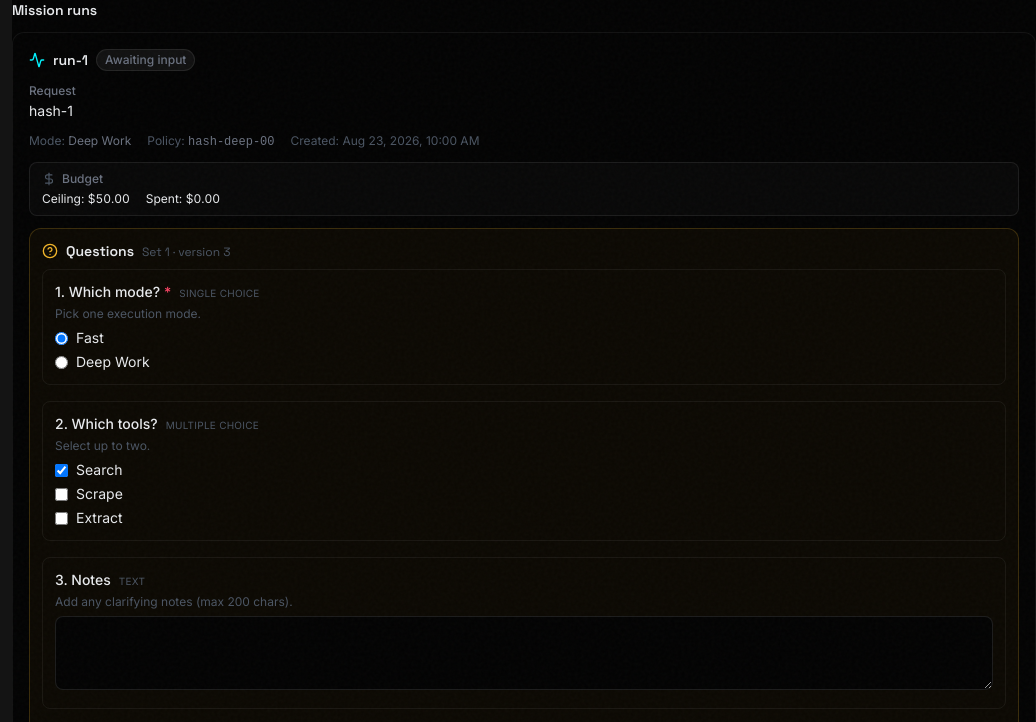
Scenario: VAL-CROSS-013: stale question action is rejected and prompts refresh › shows a refresh message for an invalidated question set and preserves typed input
// Fill answers.
Click the radio button labelled "Deep Work" at (62,362), box [55,356,68,368]
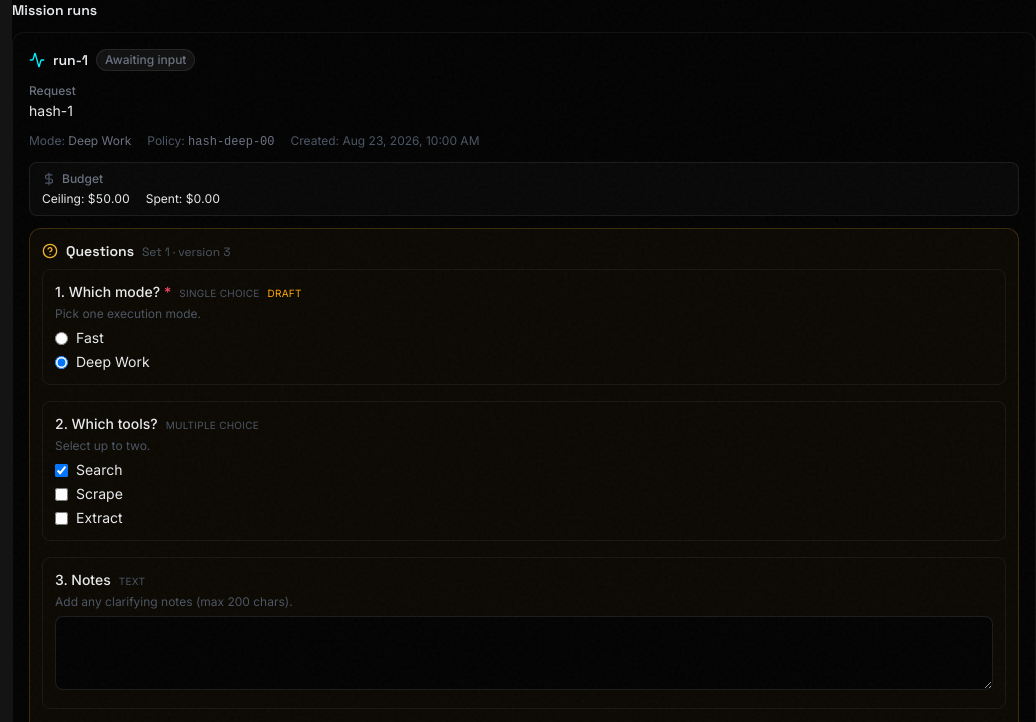
Type "Inv draft" into the text box named "Notes" at (524,653), box [55,616,993,690]
(page scrolled)
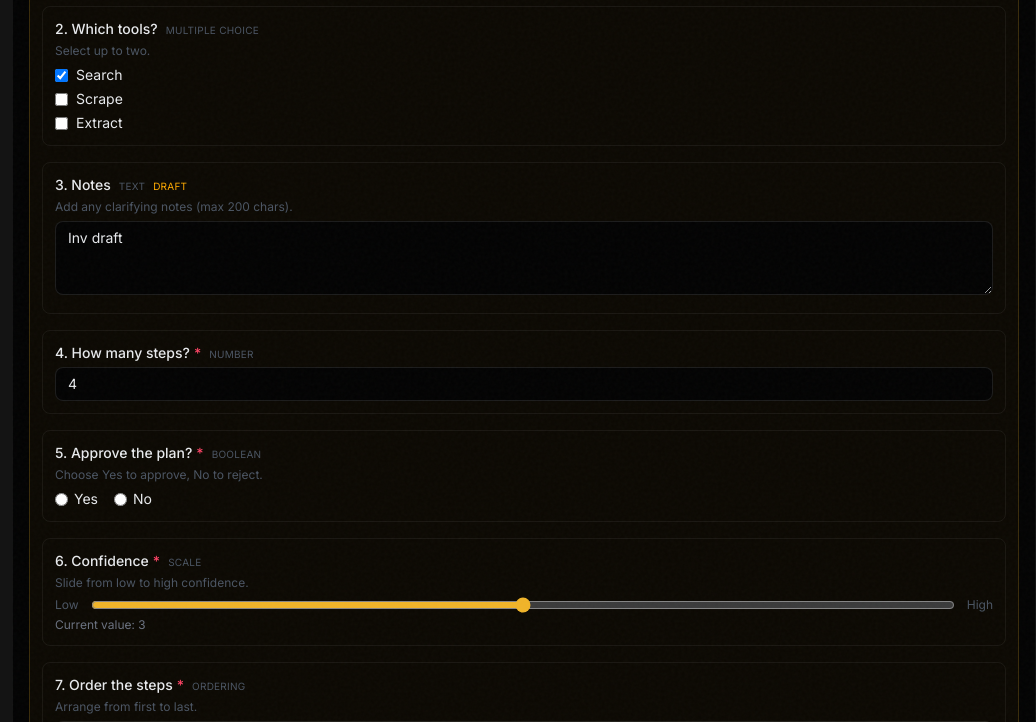
Replace the text in the number field named "How many steps?" with "6" at (524,384), box [55,367,993,401]
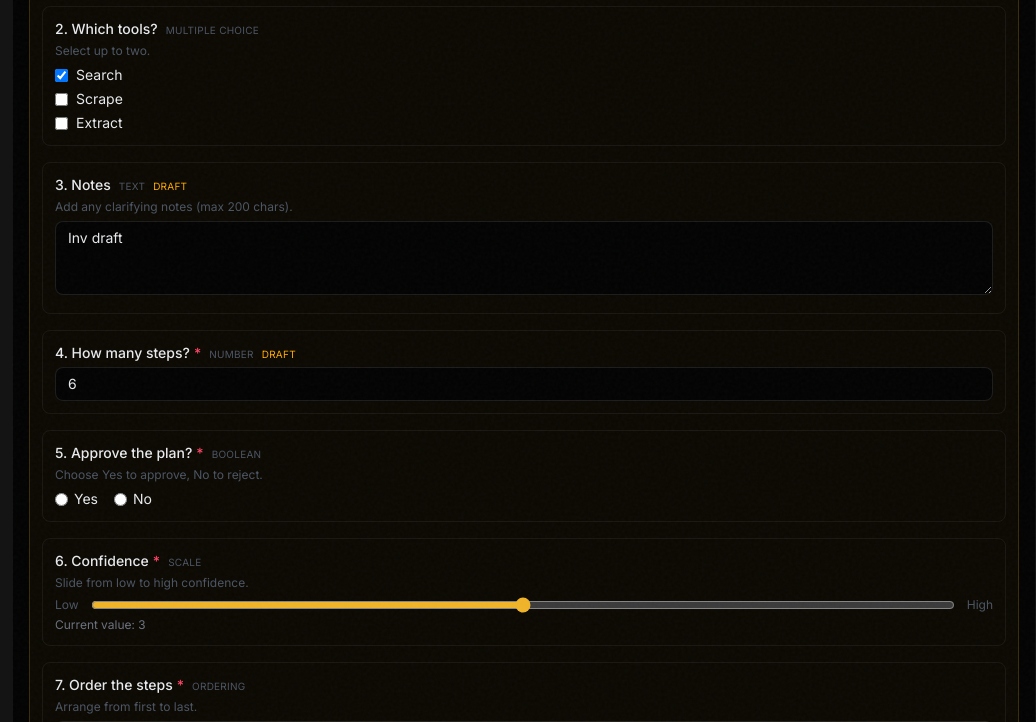
Click the radio button labelled "Yes" at (62,499), box [55,492,68,506]
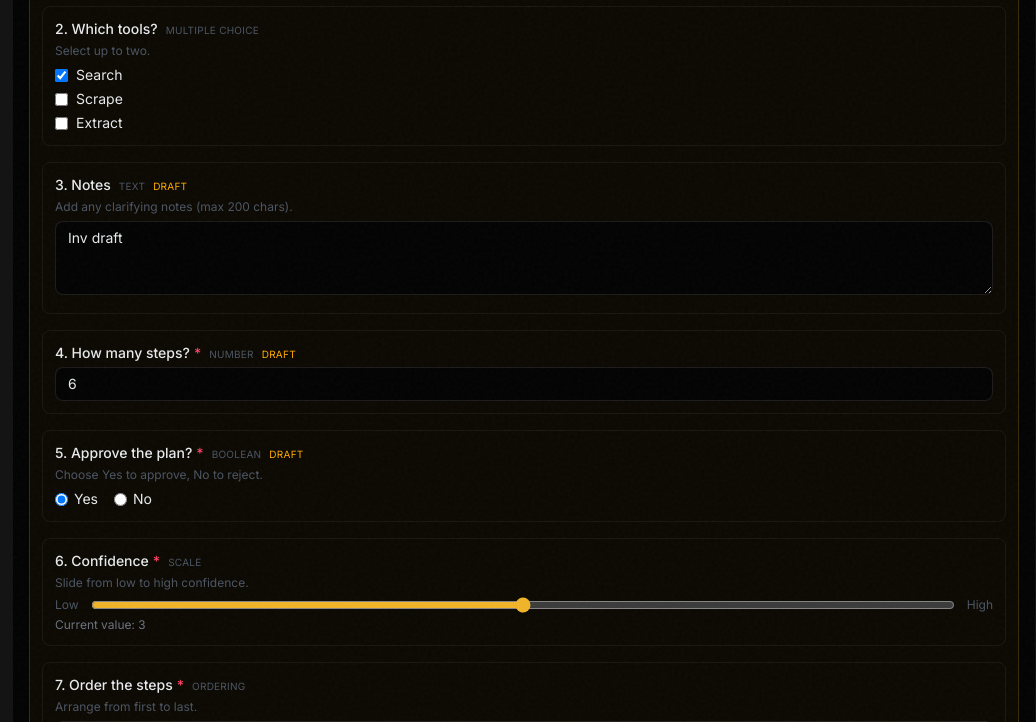
Set the slider named "Confidence" to "5" at (947,605), box [91,597,955,613]
(page scrolled)
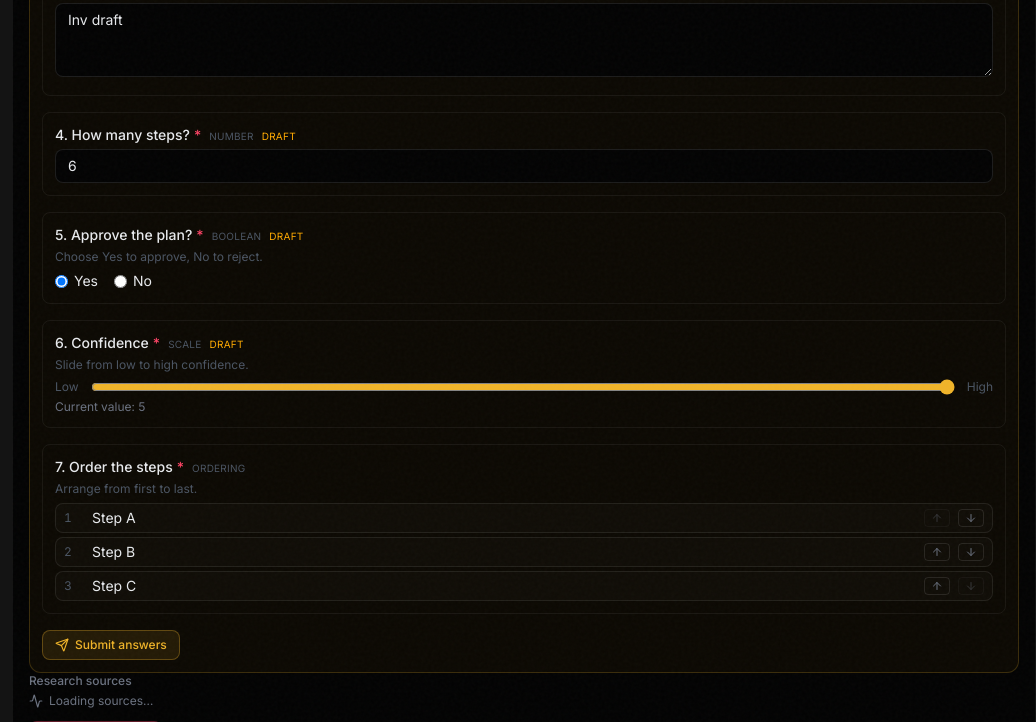
// Submit — server says the set was invalidated.
Click the button "Submit answers" at (111,645), box [42,630,180,660]
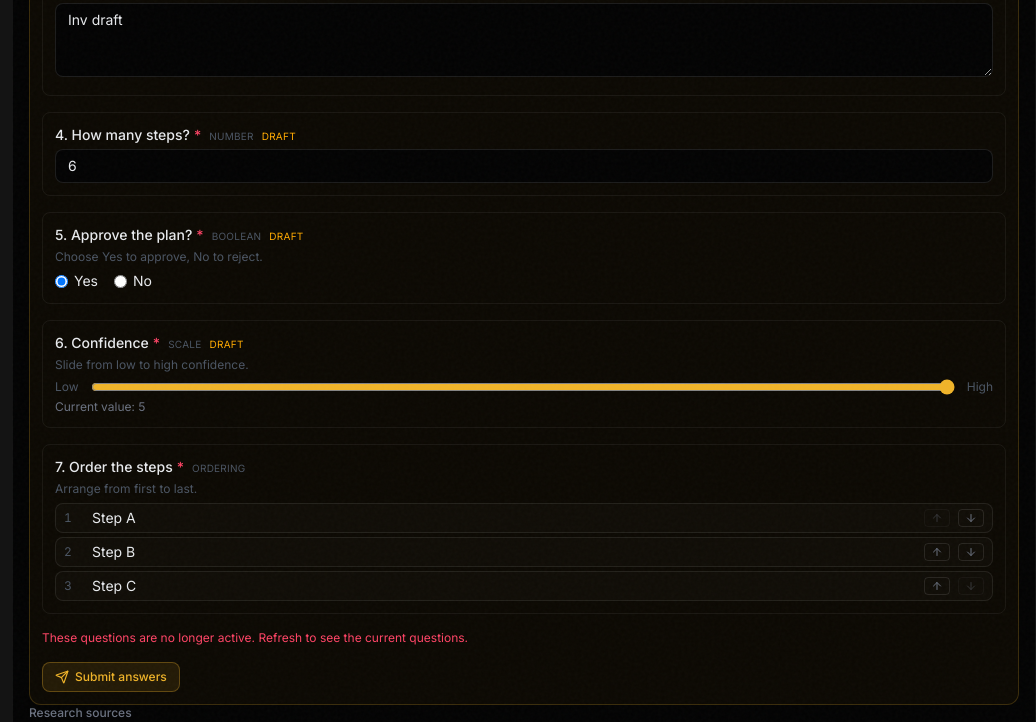
Result: the message reads "These questions are no longer active. Refresh to see the current questions." at [42,630,468,645]
